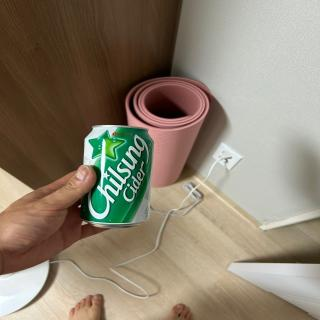cocacola: (78, 122, 154, 230)
